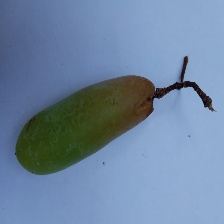grapes: (60, 18, 204, 166)
